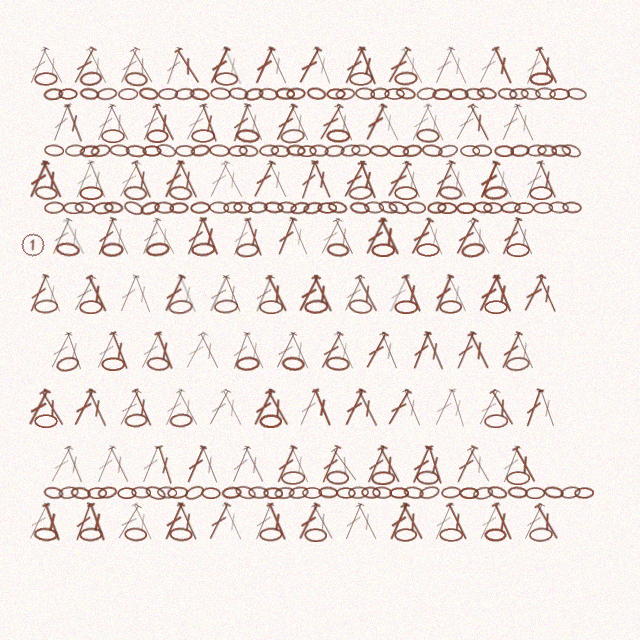chain: (460, 241, 486, 259), (55, 355, 80, 373), (183, 483, 206, 502), (55, 241, 80, 258), (145, 241, 170, 258), (348, 298, 373, 315), (122, 199, 145, 217), (144, 484, 167, 502), (79, 70, 103, 87), (235, 128, 260, 144), (280, 128, 305, 144), (123, 185, 148, 201), (168, 185, 193, 201), (348, 185, 373, 201), (438, 185, 463, 201), (483, 185, 508, 201), (235, 242, 260, 258), (168, 299, 193, 315), (505, 356, 530, 372), (560, 142, 582, 160), (139, 199, 161, 217), (387, 199, 410, 216), (234, 484, 257, 501), (418, 484, 441, 501), (124, 71, 148, 87), (34, 185, 58, 201), (326, 242, 350, 258), (146, 356, 170, 372), (235, 356, 260, 371), (325, 356, 350, 371), (33, 527, 58, 542), (155, 142, 177, 159), (377, 199, 399, 216), (486, 484, 508, 501), (394, 71, 418, 86), (416, 128, 440, 143), (191, 242, 215, 257), (34, 299, 58, 314), (214, 299, 238, 314), (304, 299, 328, 314), (281, 356, 305, 371), (124, 413, 148, 428), (169, 413, 193, 428), (79, 527, 103, 542), (169, 527, 193, 542), (259, 527, 283, 542), (529, 527, 553, 542), (243, 86, 265, 102), (437, 143, 459, 159), (289, 200, 311, 216), (302, 200, 324, 216), (472, 485, 494, 501), (101, 242, 124, 257), (326, 470, 349, 485), (416, 470, 439, 485), (124, 527, 147, 542), (34, 72, 58, 86), (214, 72, 238, 86), (349, 72, 373, 86), (529, 72, 553, 86), (101, 129, 125, 143), (191, 129, 215, 143), (326, 129, 350, 143), (79, 186, 103, 200), (394, 186, 418, 200), (529, 186, 553, 200), (371, 243, 395, 257), (416, 243, 440, 257), (506, 243, 530, 257), (79, 300, 103, 314), (259, 300, 283, 314), (394, 300, 418, 314), (484, 300, 508, 314), (101, 357, 125, 371), (34, 414, 58, 428), (484, 414, 508, 428), (281, 471, 305, 485), (371, 471, 395, 485), (506, 471, 530, 485), (439, 528, 463, 542), (421, 143, 443, 158), (146, 129, 169, 143), (439, 300, 462, 314), (259, 414, 282, 428), (304, 528, 327, 542), (394, 528, 417, 542), (484, 528, 507, 542), (138, 86, 159, 101), (228, 86, 249, 101), (306, 86, 327, 101), (395, 86, 416, 101), (416, 86, 437, 101), (476, 86, 497, 101), (90, 143, 111, 158), (190, 143, 211, 158), (340, 143, 361, 158), (402, 143, 423, 158), (327, 200, 348, 215), (58, 485, 79, 500), (97, 485, 118, 500), (288, 485, 309, 500), (403, 485, 424, 500), (543, 485, 564, 500), (560, 485, 581, 500), (96, 87, 118, 101), (125, 144, 147, 158), (92, 201, 114, 215), (43, 87, 64, 101), (79, 87, 100, 101), (174, 87, 195, 101), (189, 87, 210, 101), (258, 87, 279, 101), (335, 87, 356, 101), (464, 87, 485, 101), (497, 87, 518, 101), (520, 87, 541, 101), (566, 87, 587, 101), (79, 144, 100, 158), (238, 144, 259, 158), (270, 144, 291, 158), (324, 144, 345, 158), (369, 144, 390, 158), (349, 201, 370, 215), (43, 486, 64, 500), (70, 486, 91, 500), (274, 486, 295, 500), (210, 87, 231, 100), (535, 87, 556, 100), (109, 144, 130, 157), (209, 144, 230, 157), (526, 144, 547, 157), (74, 201, 95, 214), (103, 201, 124, 214), (263, 201, 284, 214), (500, 201, 521, 214), (548, 201, 569, 214), (167, 486, 188, 499), (221, 486, 242, 499), (248, 486, 269, 499), (348, 486, 369, 499), (507, 486, 528, 499), (275, 87, 295, 100), (286, 87, 306, 100), (355, 87, 375, 100), (370, 87, 390, 100), (44, 144, 64, 157), (65, 144, 85, 157), (259, 144, 279, 157), (286, 144, 306, 157), (309, 144, 329, 157), (351, 144, 371, 157), (472, 144, 492, 157), (510, 144, 530, 157), (537, 144, 557, 157), (551, 144, 571, 157), (44, 201, 64, 214), (154, 201, 174, 214), (190, 201, 210, 214), (209, 201, 229, 214), (223, 201, 243, 214), (233, 201, 253, 214), (248, 201, 268, 214), (277, 201, 297, 214), (364, 201, 384, 214), (406, 201, 426, 214), (427, 201, 447, 214), (473, 201, 493, 214), (562, 201, 582, 214), (131, 486, 151, 499), (157, 486, 177, 499), (318, 486, 338, 499), (361, 486, 381, 499), (372, 486, 392, 499), (441, 486, 461, 499), (384, 88, 405, 100), (549, 88, 570, 100), (388, 145, 409, 157), (63, 202, 84, 214), (58, 88, 78, 100), (118, 88, 138, 100), (158, 88, 178, 100), (326, 88, 346, 100), (432, 88, 452, 100), (449, 88, 469, 100), (509, 88, 529, 100), (142, 145, 162, 157), (175, 145, 195, 157), (228, 145, 248, 157), (297, 145, 317, 157), (460, 145, 480, 157), (494, 145, 514, 157), (169, 202, 189, 214), (317, 202, 337, 214), (437, 202, 457, 214), (456, 202, 476, 214), (483, 202, 503, 214), (514, 202, 534, 214), (533, 202, 553, 214), (87, 487, 107, 499), (117, 487, 137, 499), (201, 487, 221, 499), (263, 487, 283, 499), (302, 487, 322, 499), (336, 487, 356, 499), (389, 487, 409, 499), (459, 487, 479, 499), (525, 487, 545, 499), (574, 487, 594, 499)
double: (328, 445, 362, 484), (172, 46, 204, 86), (36, 388, 68, 428), (127, 45, 158, 86), (383, 45, 414, 86), (315, 102, 346, 143), (383, 159, 414, 200), (352, 273, 383, 314), (383, 387, 414, 428), (487, 387, 518, 428), (464, 444, 495, 485), (532, 501, 563, 542), (353, 387, 383, 429), (113, 502, 144, 542), (38, 45, 68, 86), (69, 45, 99, 86), (294, 45, 324, 86), (398, 45, 428, 86), (181, 102, 211, 143), (451, 102, 481, 143), (114, 159, 144, 200), (218, 159, 248, 200), (339, 159, 369, 200), (60, 216, 90, 257), (150, 216, 180, 257), (406, 216, 436, 257), (451, 216, 481, 257), (465, 216, 495, 257), (69, 273, 99, 314), (519, 273, 549, 314), (181, 330, 211, 371), (316, 330, 346, 371), (361, 330, 391, 371), (114, 387, 144, 428), (173, 387, 203, 428), (204, 387, 234, 428), (263, 387, 293, 428), (46, 444, 76, 485), (375, 444, 405, 485), (510, 444, 540, 485), (308, 501, 338, 542), (398, 501, 428, 542), (204, 273, 233, 315), (384, 273, 413, 315), (83, 387, 112, 429), (83, 45, 112, 86), (474, 45, 503, 86), (533, 45, 562, 86), (105, 102, 134, 143), (150, 102, 179, 143), (271, 102, 300, 143), (361, 102, 390, 143), (375, 102, 404, 143), (465, 102, 494, 143), (38, 159, 67, 200), (249, 159, 278, 200), (443, 159, 472, 200), (316, 216, 345, 257), (330, 216, 359, 257), (361, 216, 390, 257), (83, 273, 112, 314), (263, 273, 292, 314), (294, 273, 323, 314), (339, 273, 368, 314), (443, 273, 472, 314), (474, 273, 503, 314), (46, 330, 75, 371), (136, 330, 165, 371), (195, 330, 224, 371), (271, 330, 300, 371), (465, 330, 494, 371), (24, 387, 53, 428), (69, 387, 98, 428), (218, 387, 247, 428), (249, 387, 278, 428), (474, 387, 503, 428), (105, 444, 134, 485), (240, 444, 269, 485), (24, 501, 53, 542), (204, 501, 233, 542), (294, 501, 323, 542), (353, 501, 382, 542), (443, 501, 472, 542), (519, 501, 548, 542), (219, 45, 247, 87), (475, 159, 503, 201), (520, 159, 548, 201), (174, 273, 202, 315), (250, 273, 278, 315), (421, 330, 449, 372), (407, 444, 435, 486), (115, 45, 143, 86), (205, 45, 233, 86), (250, 45, 278, 86), (264, 45, 292, 86), (340, 45, 368, 86), (430, 45, 458, 86), (444, 45, 472, 86), (489, 45, 517, 86), (286, 102, 314, 143), (407, 102, 435, 143), (421, 102, 449, 143), (511, 102, 539, 143), (174, 159, 202, 200), (205, 159, 233, 200), (264, 159, 292, 200), (430, 159, 458, 200), (489, 159, 517, 200), (47, 216, 75, 257), (106, 216, 134, 257), (376, 216, 404, 257), (497, 216, 525, 257), (160, 273, 188, 314), (309, 273, 337, 314), (92, 330, 120, 371), (241, 330, 269, 371), (286, 330, 314, 371), (331, 330, 359, 371), (497, 330, 525, 371), (511, 330, 539, 371), (129, 387, 157, 428), (160, 387, 188, 428), (340, 387, 368, 428), (430, 387, 458, 428), (272, 444, 300, 485), (286, 444, 314, 485), (362, 444, 390, 485), (452, 444, 480, 485), (129, 501, 157, 542), (174, 501, 202, 542), (219, 501, 247, 542), (475, 501, 503, 542), (489, 501, 517, 542), (61, 102, 88, 144), (25, 45, 52, 86), (92, 102, 119, 143), (241, 102, 268, 143), (331, 102, 358, 143), (497, 102, 524, 143), (25, 159, 52, 200), (84, 159, 111, 200), (129, 159, 156, 200), (160, 159, 187, 200), (309, 159, 336, 200), (399, 159, 426, 200), (534, 159, 561, 200), (137, 216, 164, 257), (182, 216, 209, 257), (286, 216, 313, 257), (511, 216, 538, 257), (25, 273, 52, 314), (39, 273, 66, 314), (115, 273, 142, 314), (399, 273, 426, 314), (430, 273, 457, 314), (534, 273, 561, 314), (376, 330, 403, 371), (452, 330, 479, 371), (295, 387, 322, 428), (309, 387, 336, 428), (399, 387, 426, 428), (61, 444, 88, 485), (92, 444, 119, 485), (137, 444, 164, 485), (182, 444, 209, 485), (227, 444, 254, 485), (317, 444, 344, 485), (160, 501, 187, 542), (250, 501, 277, 542), (264, 501, 291, 542), (340, 501, 367, 542), (385, 501, 412, 542), (430, 501, 457, 542), (355, 45, 381, 87), (521, 45, 547, 87), (48, 102, 74, 144), (228, 102, 254, 144), (355, 159, 381, 201), (228, 216, 254, 258), (130, 273, 156, 315), (310, 45, 336, 86), (138, 102, 164, 143), (71, 159, 97, 200), (93, 216, 119, 257), (197, 216, 223, 257), (273, 216, 299, 257), (422, 216, 448, 257), (220, 273, 246, 314), (490, 273, 516, 314), (107, 330, 133, 371), (152, 330, 178, 371), (408, 330, 434, 371), (197, 444, 223, 485), (498, 444, 524, 485), (161, 45, 186, 87), (197, 102, 222, 144), (296, 159, 321, 201), (242, 216, 267, 258), (62, 330, 87, 372), (228, 330, 253, 372), (521, 387, 546, 429), (535, 387, 560, 429), (40, 501, 65, 543), (71, 501, 96, 543), (85, 501, 110, 543), (446, 387, 470, 429), (153, 444, 177, 486), (423, 444, 447, 486)
noise: (19, 231, 47, 259)
